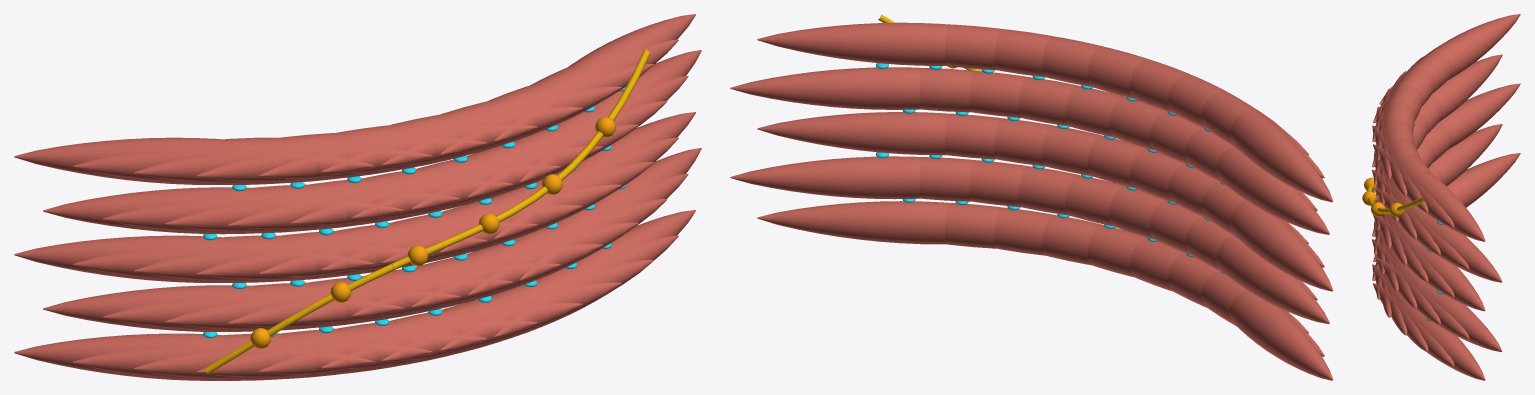
File: smoothtissue.glb
The picture shows the model from 3 angles, left to right: view 1: azimuth 30°, elevation 25°; view 2: azimuth 150°, elevation 25°; view 3: azimuth 270°, elevation 25°; orthographic projection. The views are drawn at different scales.
Visible parts, largest first — view 1: Smooth muscle cells.037, Smooth muscle cells.028, Smooth muscle cells.019, Smooth muscle cells.001, Smooth muscle cells.010, Smooth muscle cells.038, Smooth muscle cells.029, Smooth muscle cells.011, Smooth muscle cells.039, Smooth muscle cells.030, Smooth muscle cells.020, Smooth muscle cells.002 (+36 smaller); view 2: Smooth muscle cells.036, Smooth muscle cells.018, Smooth muscle cells.009, Smooth muscle cells.045, Smooth muscle cells.027, Smooth muscle cells.037, Smooth muscle cells.001, Smooth muscle cells.019, Smooth muscle cells.028, Smooth muscle cells.010, Smooth muscle cells.035, Smooth muscle cells.017 (+34 smaller); view 3: Smooth muscle cells.037, Smooth muscle cells.019, Smooth muscle cells.045, Smooth muscle cells.018, Smooth muscle cells.028, Smooth muscle cells.036, Smooth muscle cells.001, Smooth muscle cells.010, Smooth muscle cells.009, Smooth muscle cells.027, Smooth muscle cells.044, Smooth muscle cells.043 (+29 smaller).
Boxes of the visible parts, x1=… form: Smooth muscle cells.037: x1=14, y1=137, x2=373, y2=184; Smooth muscle cells.028: x1=43, y1=187, x2=403, y2=234; Smooth muscle cells.019: x1=14, y1=235, x2=373, y2=282; Smooth muscle cells.001: x1=14, y1=333, x2=373, y2=380; Smooth muscle cells.010: x1=43, y1=285, x2=403, y2=331; Smooth muscle cells.038: x1=72, y1=137, x2=432, y2=184; Smooth muscle cells.029: x1=103, y1=184, x2=459, y2=233; Smooth muscle cells.011: x1=103, y1=282, x2=459, y2=331; Smooth muscle cells.039: x1=134, y1=133, x2=486, y2=183; Smooth muscle cells.030: x1=165, y1=178, x2=512, y2=231; Smooth muscle cells.020: x1=72, y1=235, x2=432, y2=282; Smooth muscle cells.002: x1=72, y1=333, x2=431, y2=380; Smooth muscle cells.036: x1=730, y1=67, x2=921, y2=109; Smooth muscle cells.018: x1=730, y1=156, x2=921, y2=199; Smooth muscle cells.009: x1=757, y1=201, x2=947, y2=244; Smooth muscle cells.045: x1=757, y1=22, x2=948, y2=65; Smooth muscle cells.027: x1=757, y1=112, x2=947, y2=155; Smooth muscle cells.037: x1=1229, y1=110, x2=1333, y2=202; Smooth muscle cells.001: x1=1229, y1=290, x2=1333, y2=380; Smooth muscle cells.019: x1=1229, y1=200, x2=1333, y2=291; Smooth muscle cells.028: x1=1216, y1=146, x2=1329, y2=234; Smooth muscle cells.010: x1=1216, y1=235, x2=1329, y2=323; Smooth muscle cells.035: x1=919, y1=68, x2=974, y2=112; Smooth muscle cells.017: x1=919, y1=157, x2=974, y2=201; Smooth muscle cells.037: x1=1379, y1=14, x2=1520, y2=104; Smooth muscle cells.019: x1=1440, y1=83, x2=1520, y2=149; Smooth muscle cells.045: x1=1373, y1=144, x2=1485, y2=241; Smooth muscle cells.018: x1=1375, y1=258, x2=1502, y2=352; Smooth muscle cells.028: x1=1431, y1=54, x2=1502, y2=121; Smooth muscle cells.036: x1=1375, y1=188, x2=1502, y2=282; Smooth muscle cells.001: x1=1447, y1=153, x2=1520, y2=207; Smooth muscle cells.010: x1=1431, y1=124, x2=1502, y2=186; Smooth muscle cells.009: x1=1372, y1=283, x2=1485, y2=380; Smooth muscle cells.027: x1=1373, y1=215, x2=1485, y2=311; Smooth muscle cells.044: x1=1372, y1=125, x2=1454, y2=228; Smooth muscle cells.043: x1=1376, y1=107, x2=1428, y2=212.
Size of the model in its own units: 5.19 by 1.75 by 1.49.
